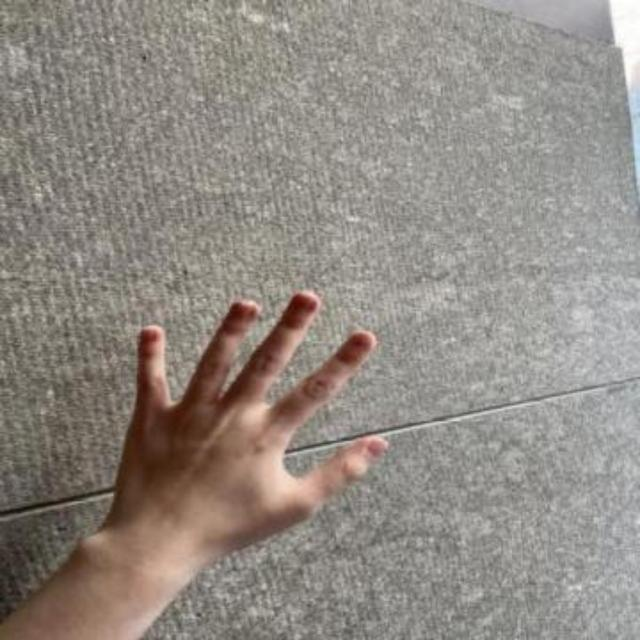bare_hand: (105, 288, 393, 570)
